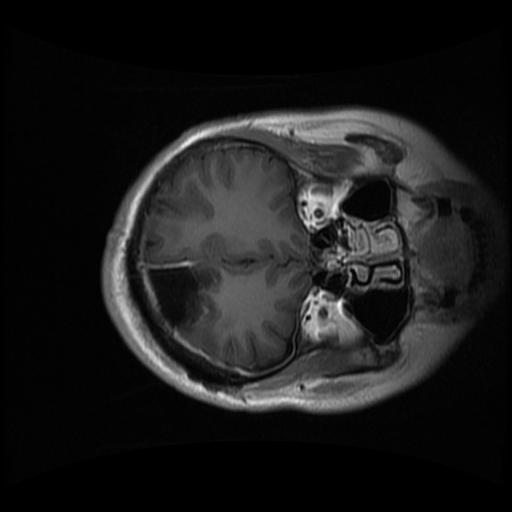glioma: (147, 261, 220, 331)
